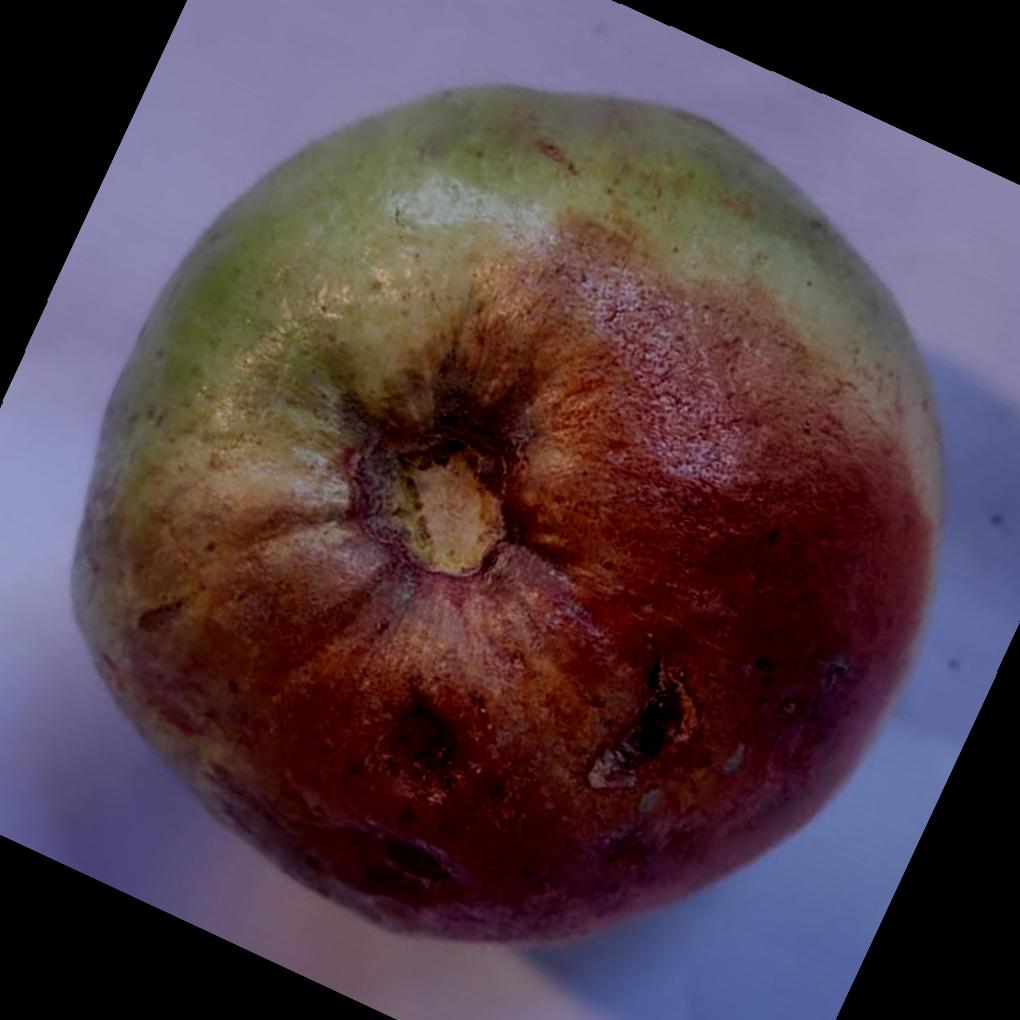FreshOrange: (63, 82, 944, 949)
